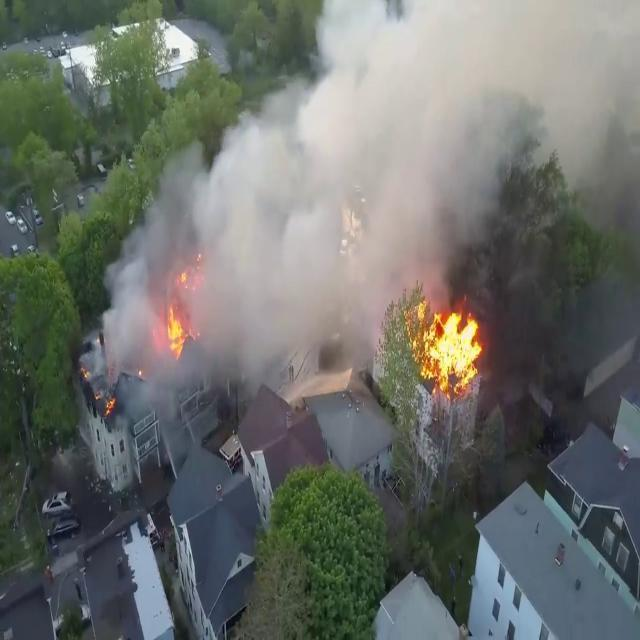Fire: (402, 288, 488, 396)
Smoke: (98, 0, 586, 382)
